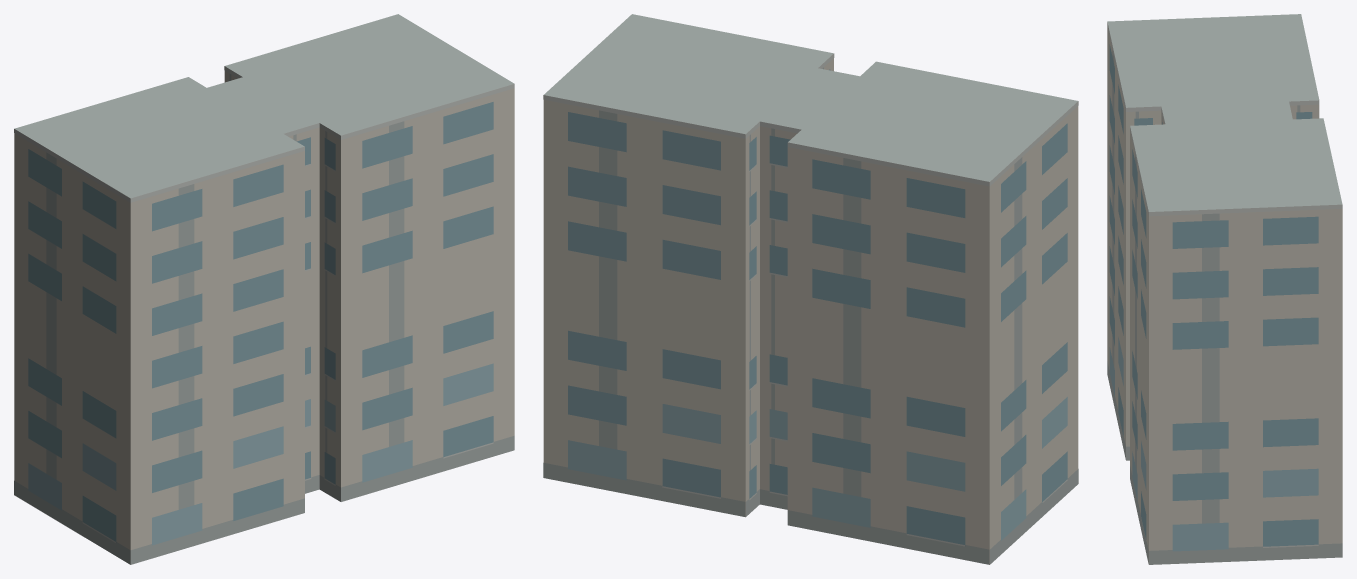
Rendered from survey-upis-33015771.glb.
3 views of the same model, side by side, from view 1: azimuth 30°, elevation 25°; view 2: azimuth 150°, elevation 25°; view 3: azimuth 270°, elevation 25° (orthographic). The views are drawn at different scales.
Visible parts, largest first — view 1: survey-upis-33015771.tmp; view 2: survey-upis-33015771.tmp; view 3: survey-upis-33015771.tmp.
Part boxes in pixels (left/top/right/bottom): survey-upis-33015771.tmp: left=14, top=14, right=514, bottom=564; survey-upis-33015771.tmp: left=543, top=14, right=1078, bottom=564; survey-upis-33015771.tmp: left=1107, top=14, right=1342, bottom=564.
Size of the model in its own units: 24.5 by 20.35 by 12.3.
